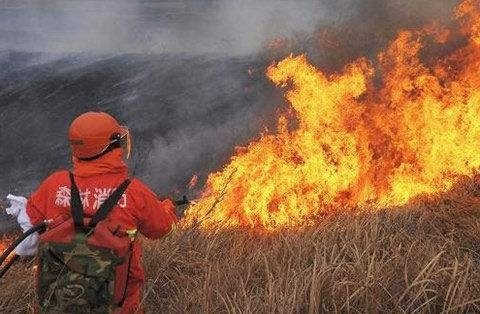fire: (172, 3, 480, 240)
